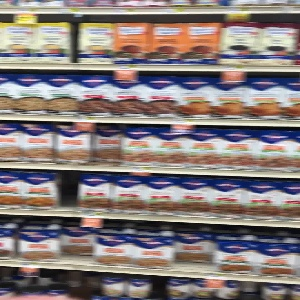void: (54, 173, 81, 212)
